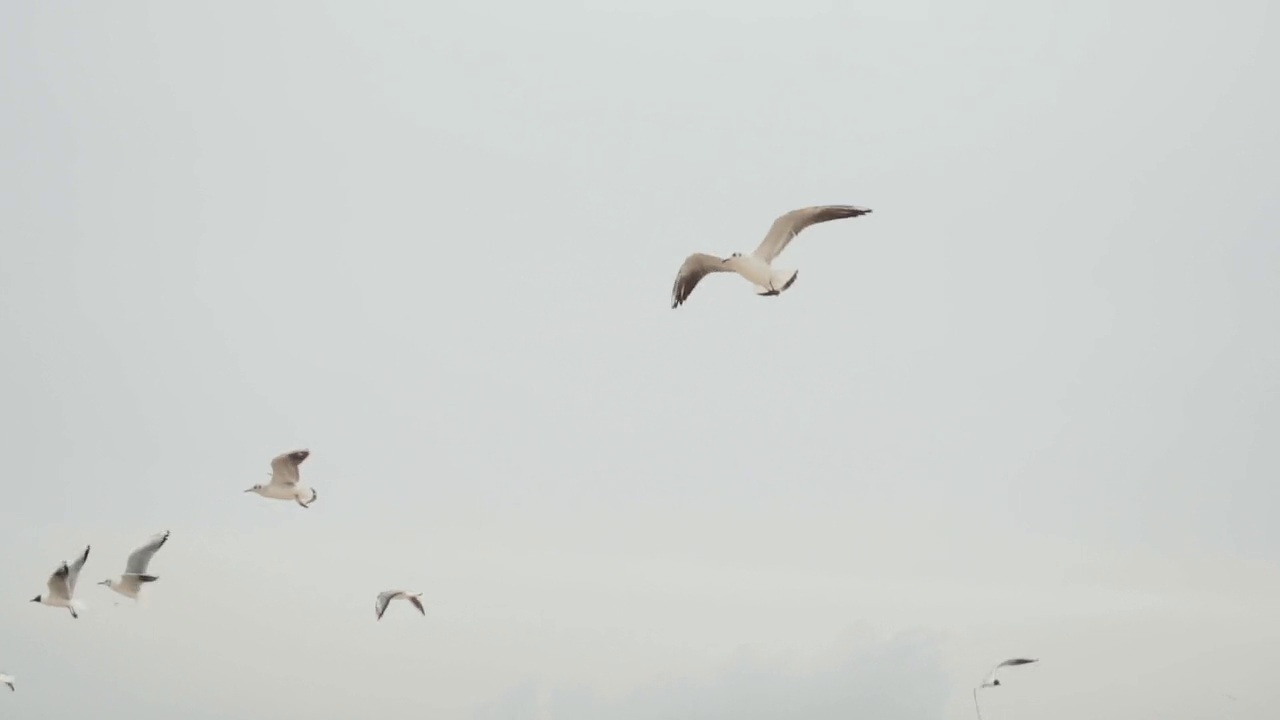bird: (669, 205, 872, 307), (94, 530, 169, 603), (32, 543, 89, 622), (242, 448, 316, 507), (968, 657, 1033, 719), (373, 587, 425, 618)
